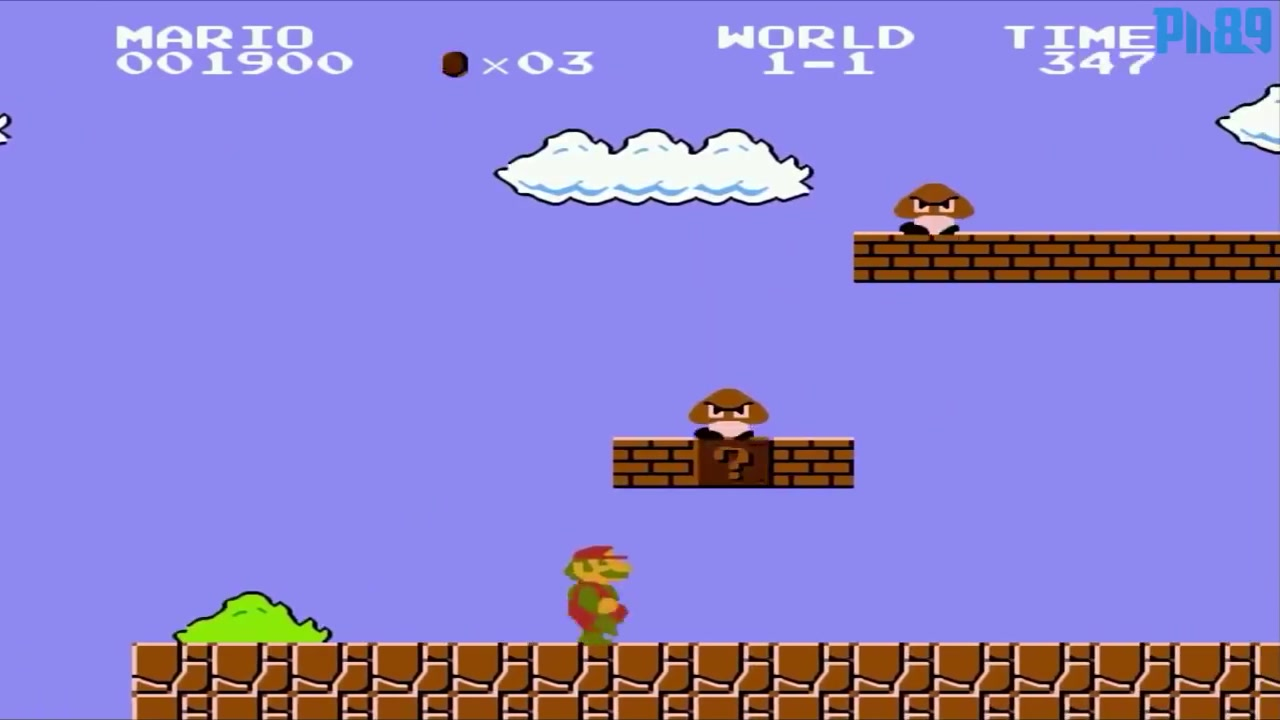mario: (555, 542, 640, 659)
